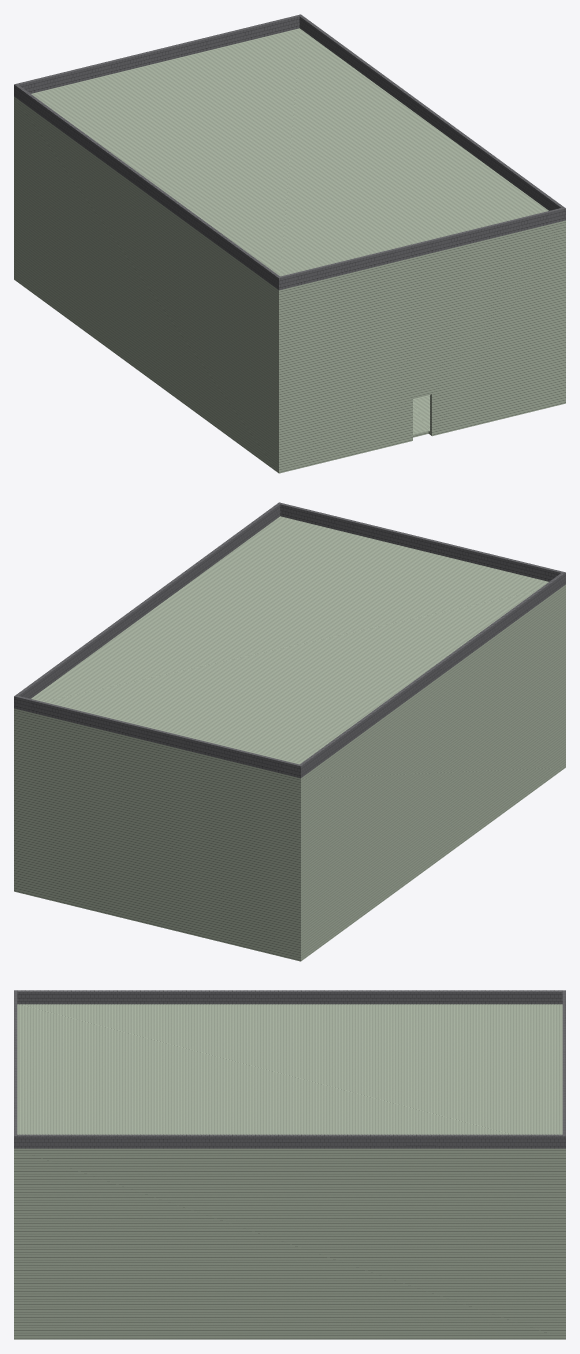
File: hotel_inn_small.glb
The picture shows the model from 3 angles, top to bottom: view 1: azimuth 30°, elevation 25°; view 2: azimuth 150°, elevation 25°; view 3: azimuth 270°, elevation 25°; orthographic projection. The views are drawn at different scales.
Parts seen in each view (by area): view 1: hotel_inn_small-col; view 2: hotel_inn_small-col; view 3: hotel_inn_small-col.
Boxes of the visible parts, left/top/right/bottom form: hotel_inn_small-col: left=14, top=14, right=565, bottom=473; hotel_inn_small-col: left=14, top=502, right=565, bottom=961; hotel_inn_small-col: left=14, top=990, right=565, bottom=1339.
Bounding box in the file's own units: 15 × 9.75 × 24.
2 materials, 2 textured.
